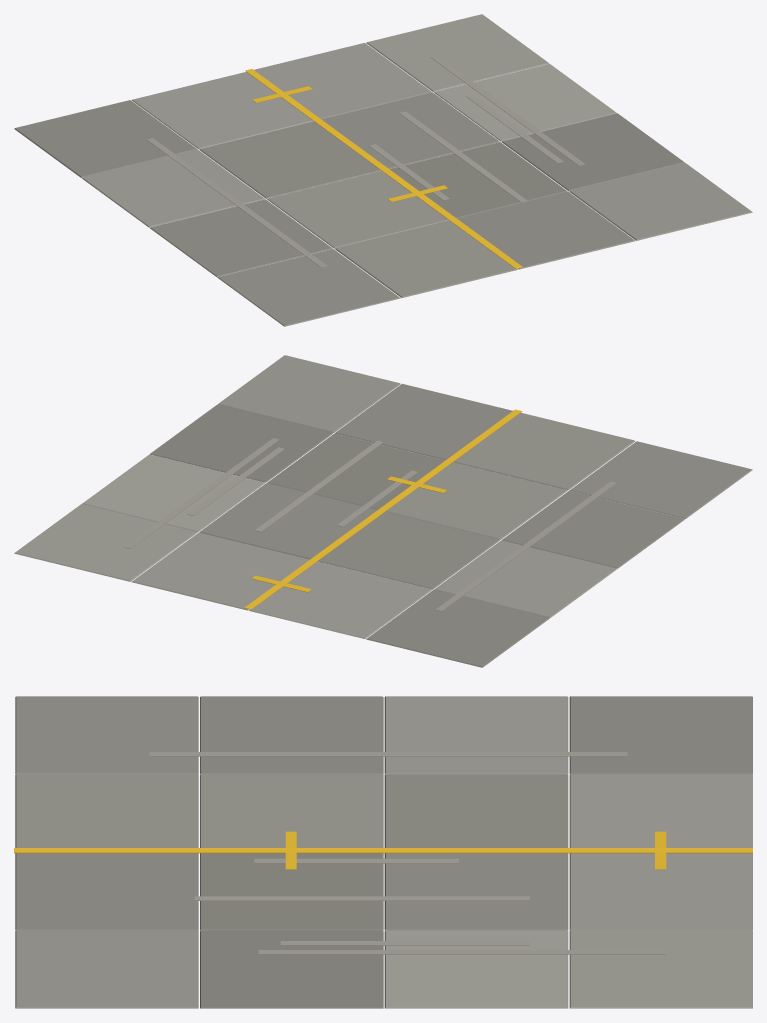
Rendered from apron_tile.glb.
3 views of the same model, one above another, from view 1: azimuth 30°, elevation 25°; view 2: azimuth 150°, elevation 25°; view 3: azimuth 270°, elevation 25° (orthographic). The views are drawn at different scales.
Visible parts, largest first — view 1: apron_tile_mesh; view 2: apron_tile_mesh; view 3: apron_tile_mesh.
Boxes of the visible parts, x1=… form: apron_tile_mesh: x1=14, y1=14, x2=752, y2=326; apron_tile_mesh: x1=14, y1=355, x2=752, y2=667; apron_tile_mesh: x1=14, y1=696, x2=752, y2=1008.
Size of the model in its own units: 19.97 by 0.081 by 20.
